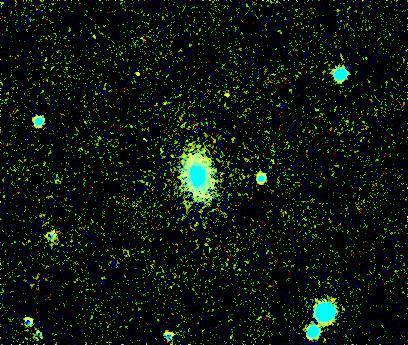star: (214, 75, 244, 105)
